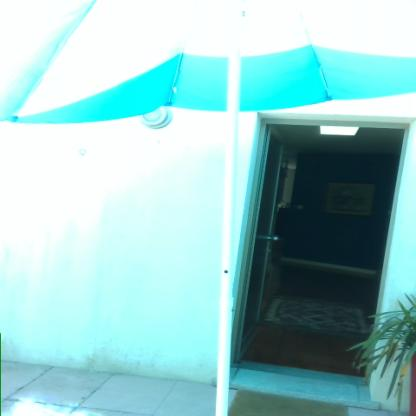open: (228, 105, 415, 408)
